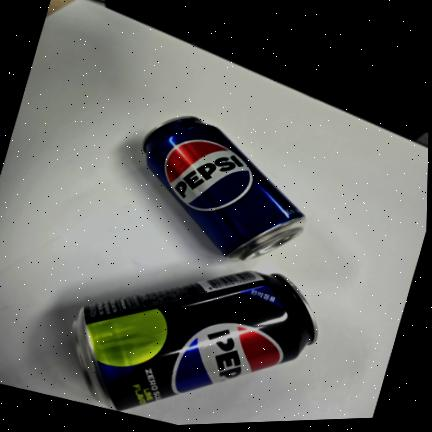can_pepsi: (140, 116, 302, 259)
can_pepsi_zero: (75, 270, 315, 407)
